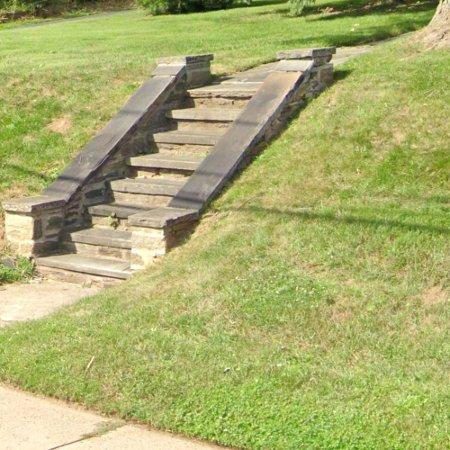stairs: (4, 47, 334, 284)
